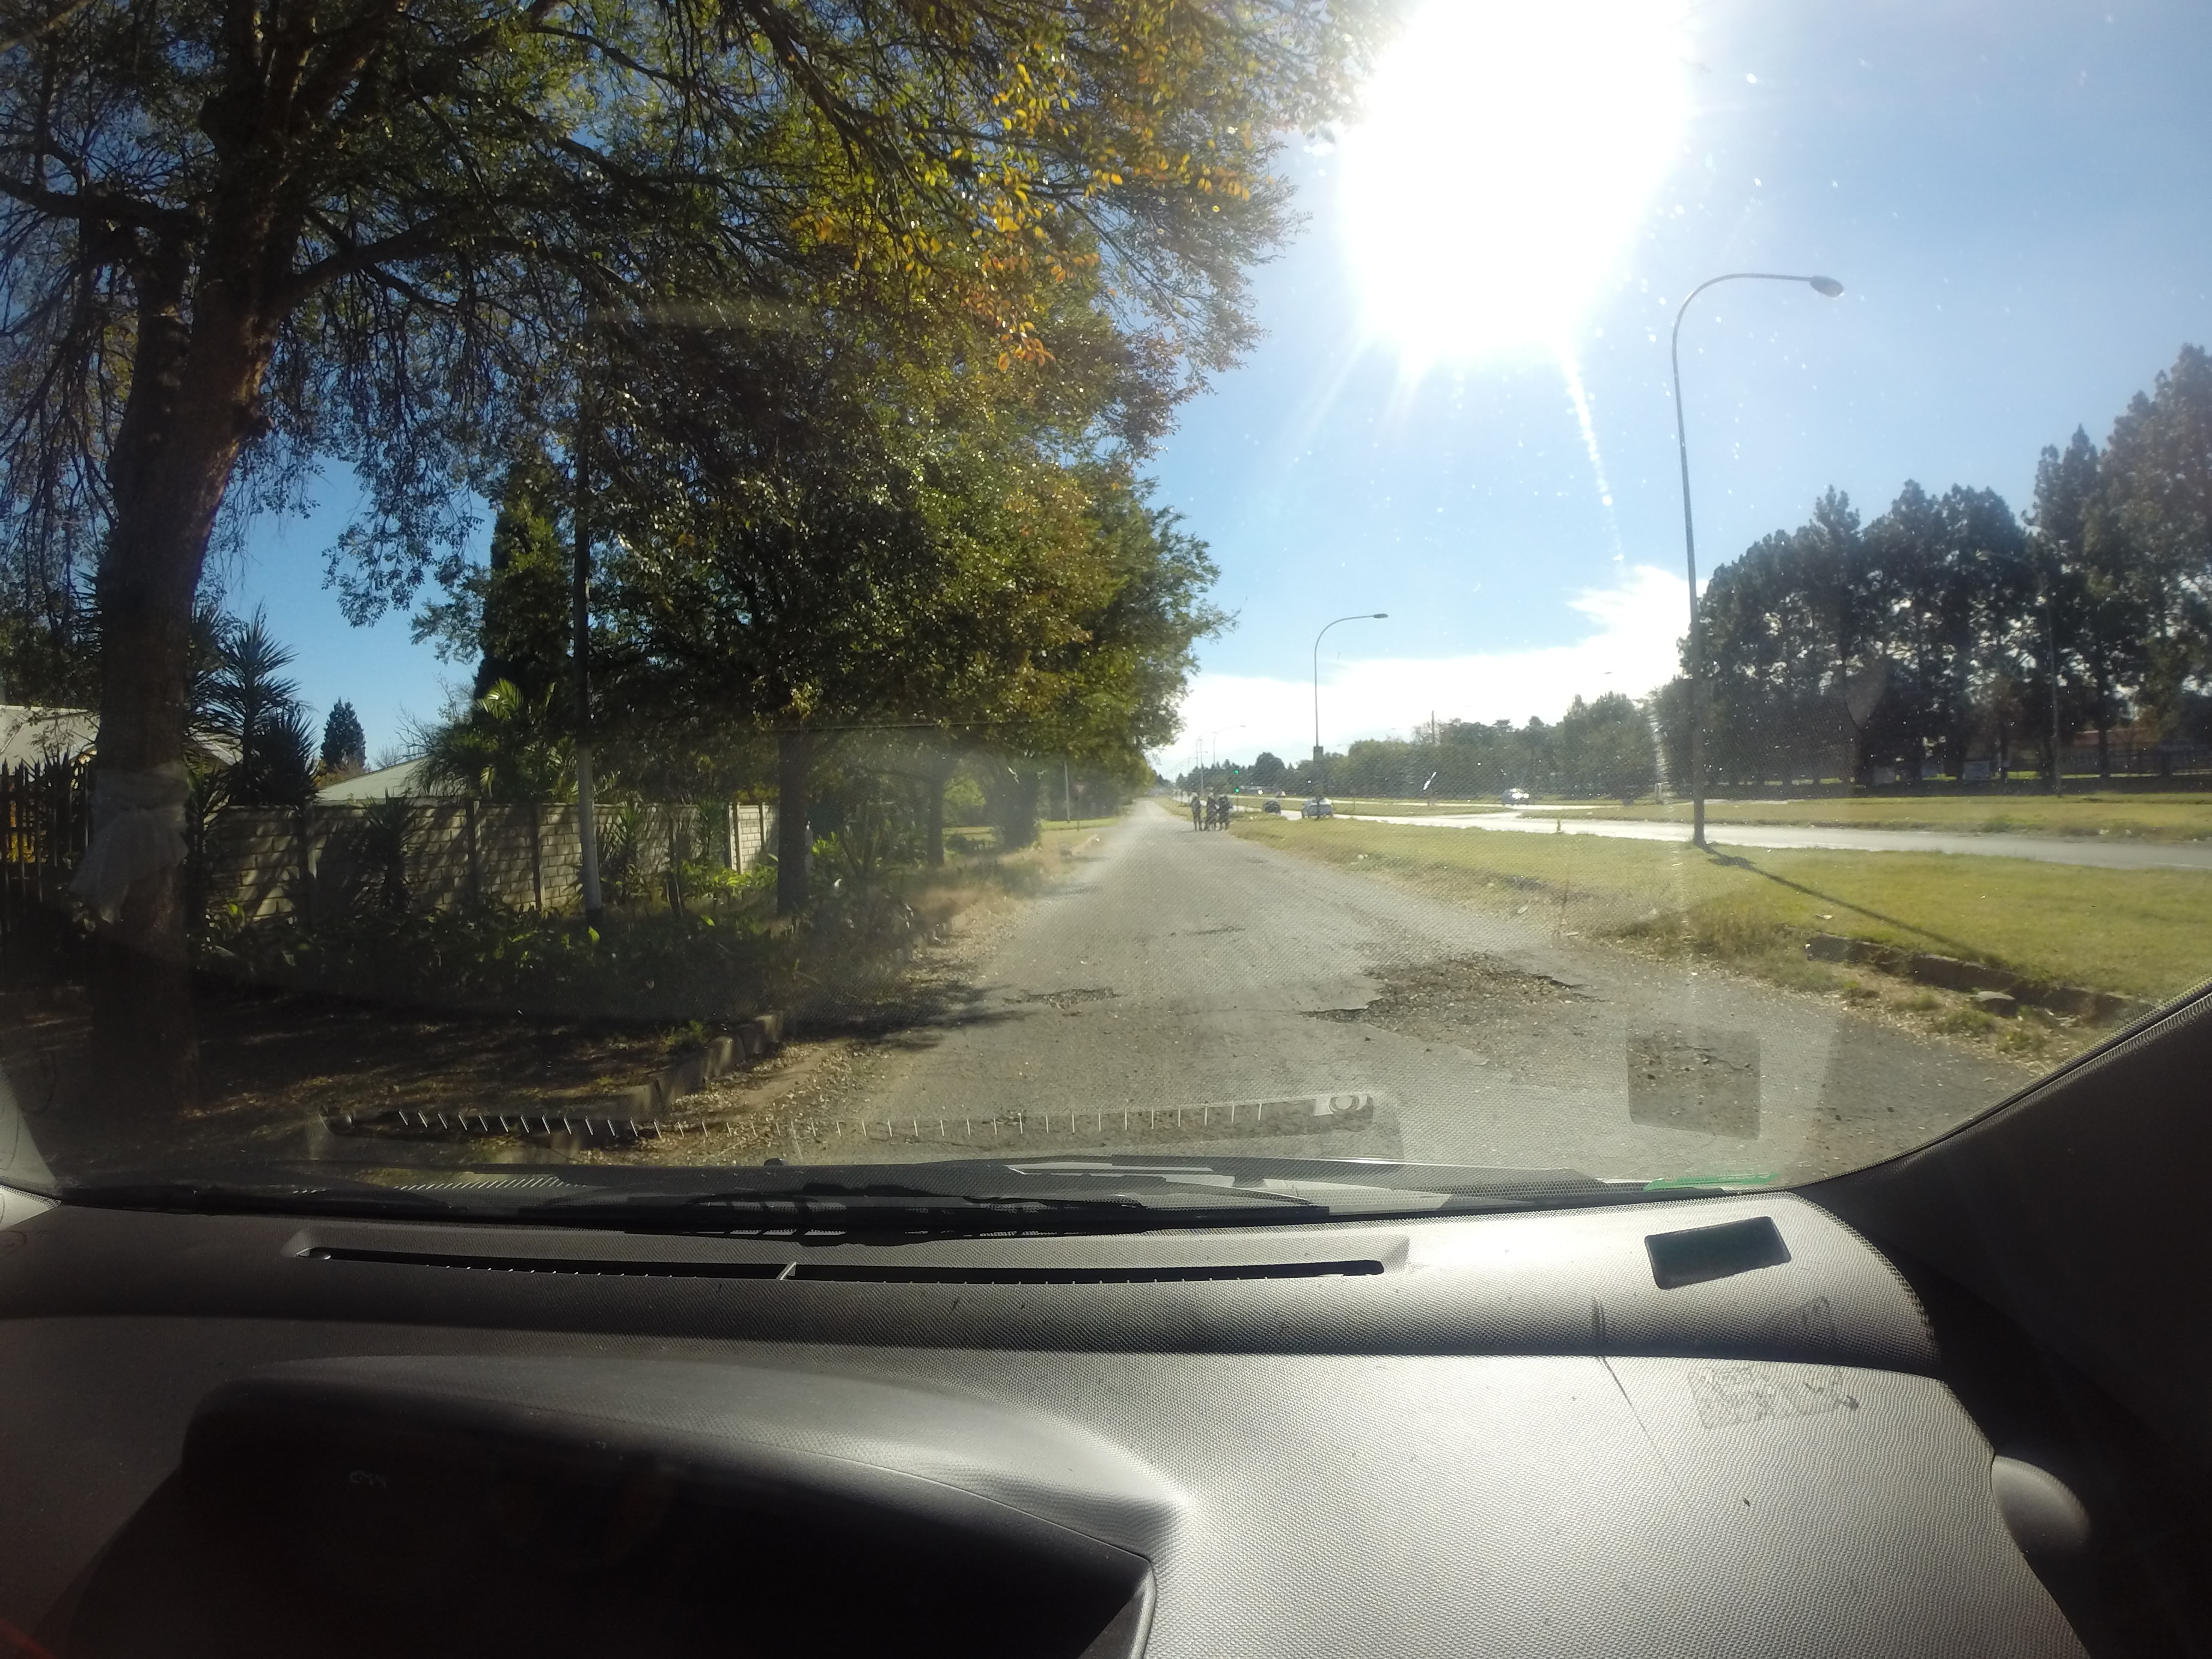pothole: (1315, 915, 1606, 1094)
